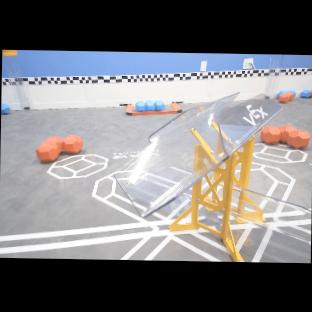V5_BLUE: (135, 99, 165, 111), (1, 103, 10, 114), (300, 89, 310, 98), (286, 90, 296, 97), (277, 90, 286, 97)
V5_RED: (114, 92, 282, 217), (35, 135, 83, 165), (260, 124, 310, 150), (279, 94, 288, 102), (286, 92, 292, 99), (311, 89, 312, 97)
